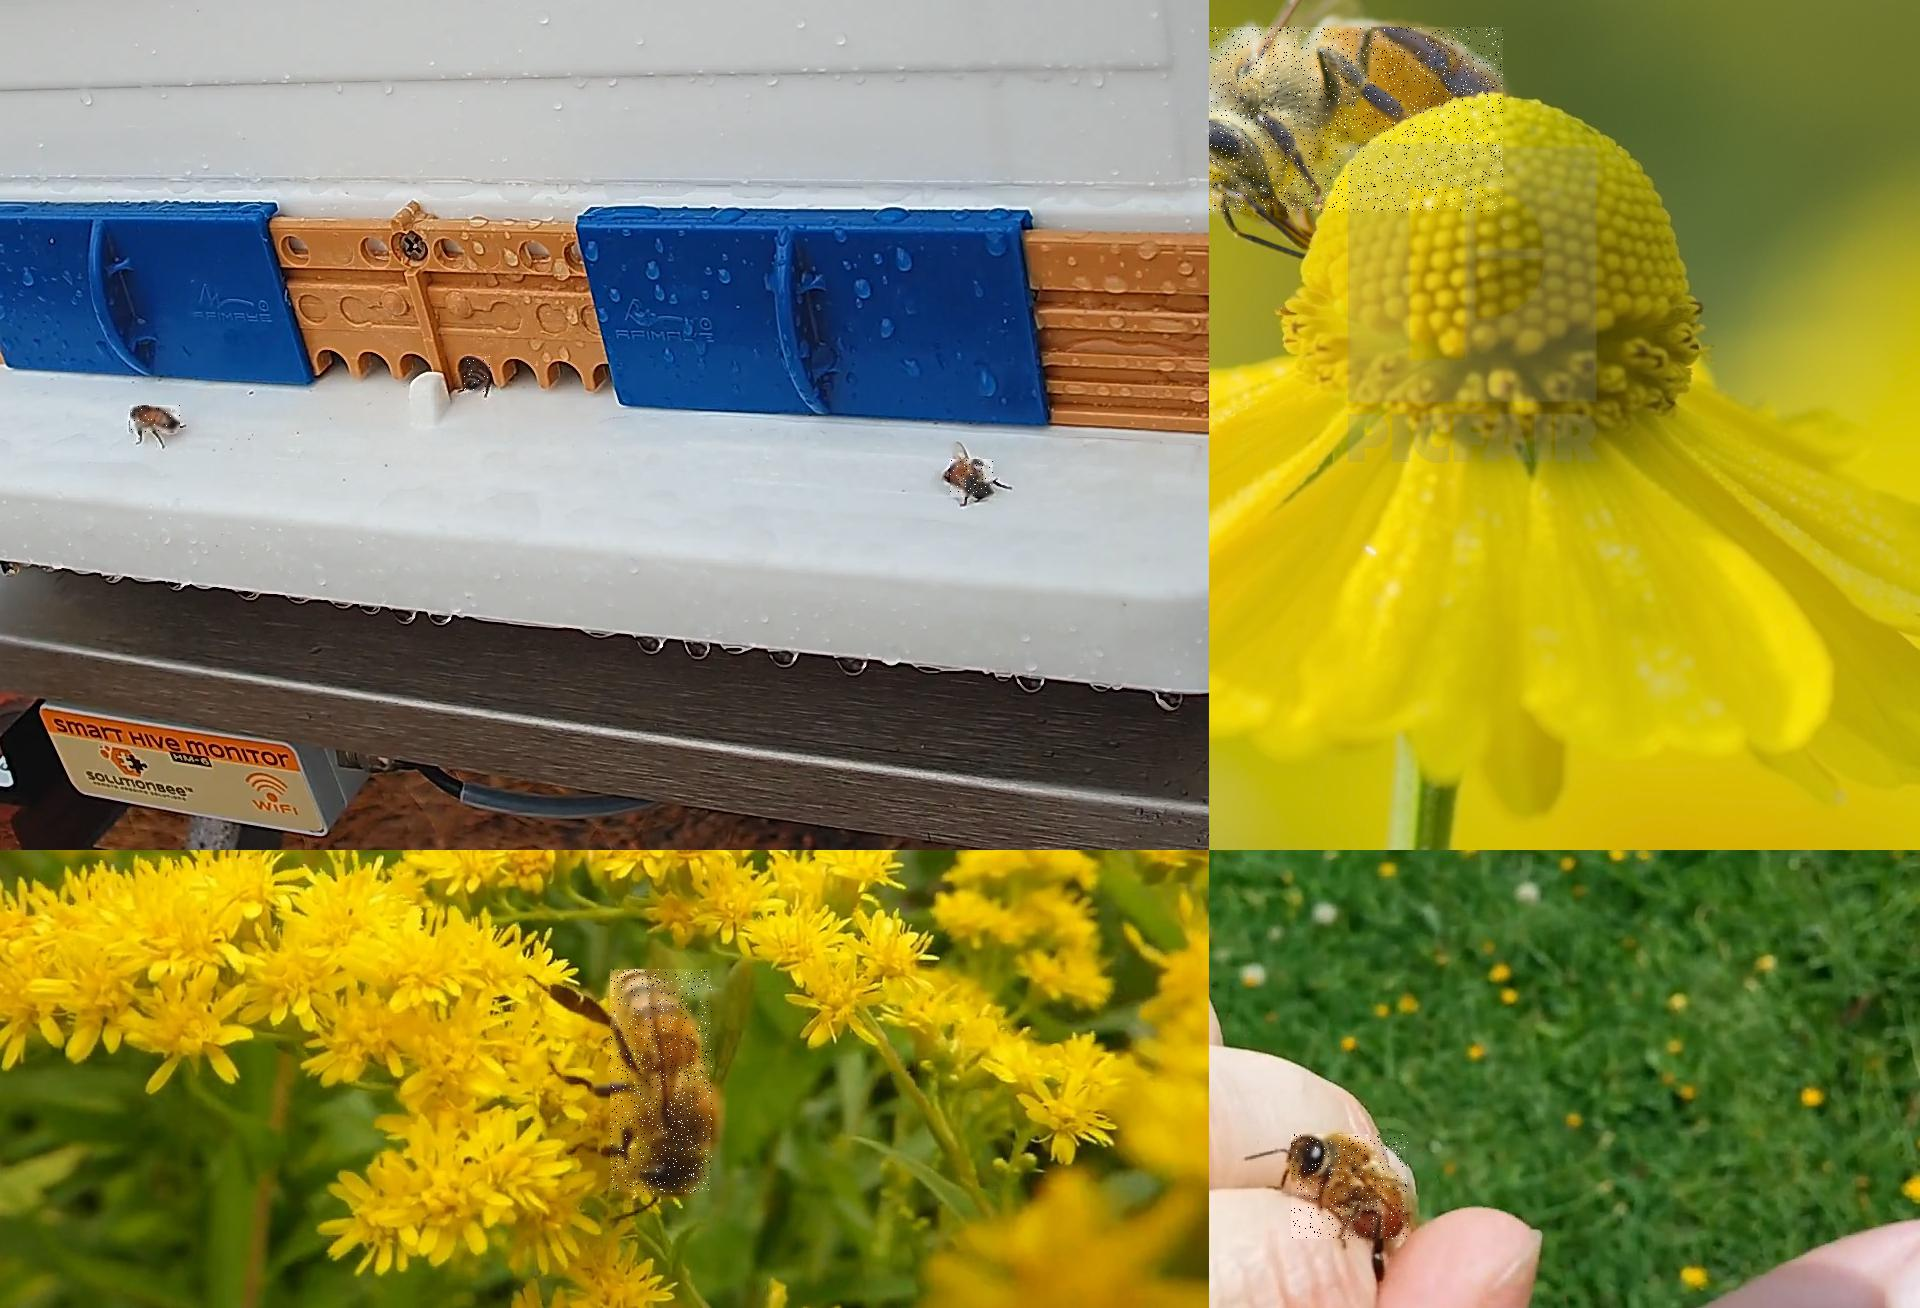bee: (1209, 28, 1506, 214), (611, 970, 713, 1196), (950, 459, 994, 499), (130, 405, 181, 433), (464, 356, 492, 394)
drone: (1291, 1134, 1409, 1239)
